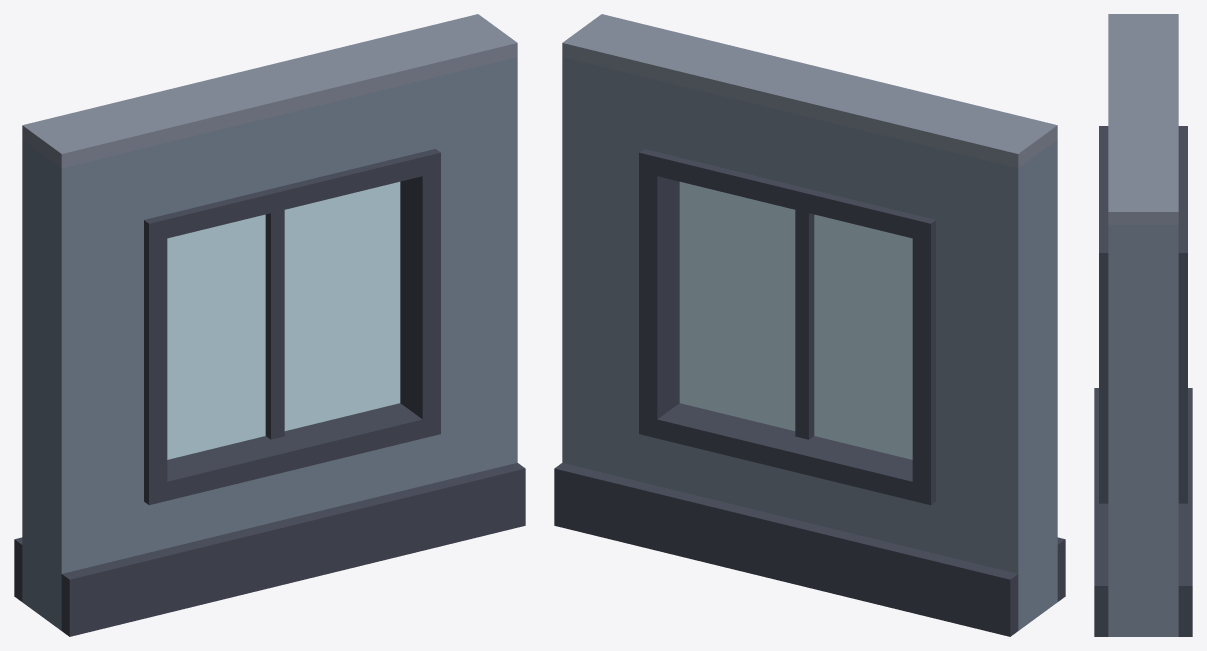
Rendered from wall-window.glb.
3 views of the same model, side by side, from view 1: azimuth 30°, elevation 25°; view 2: azimuth 150°, elevation 25°; view 3: azimuth 270°, elevation 25° (orthographic). The views are drawn at different scales.
Visible parts, largest first — view 1: wall-window; view 2: wall-window; view 3: wall-window.
Part boxes in pixels (<box>): wall-window: <box>14,14,525,636</box>; wall-window: <box>554,14,1065,636</box>; wall-window: <box>1094,14,1192,636</box>.
Size of the model in its own units: 1 by 1 by 0.21.
1 material, 1 textured.
